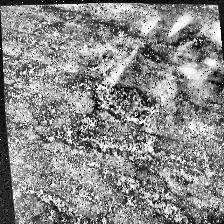pothole: (72, 68, 162, 128)
